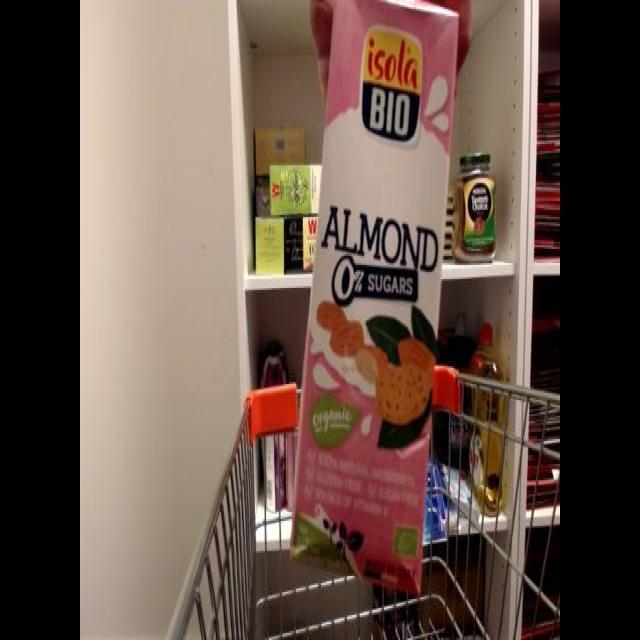Almond Milk: (286, 2, 462, 606)
